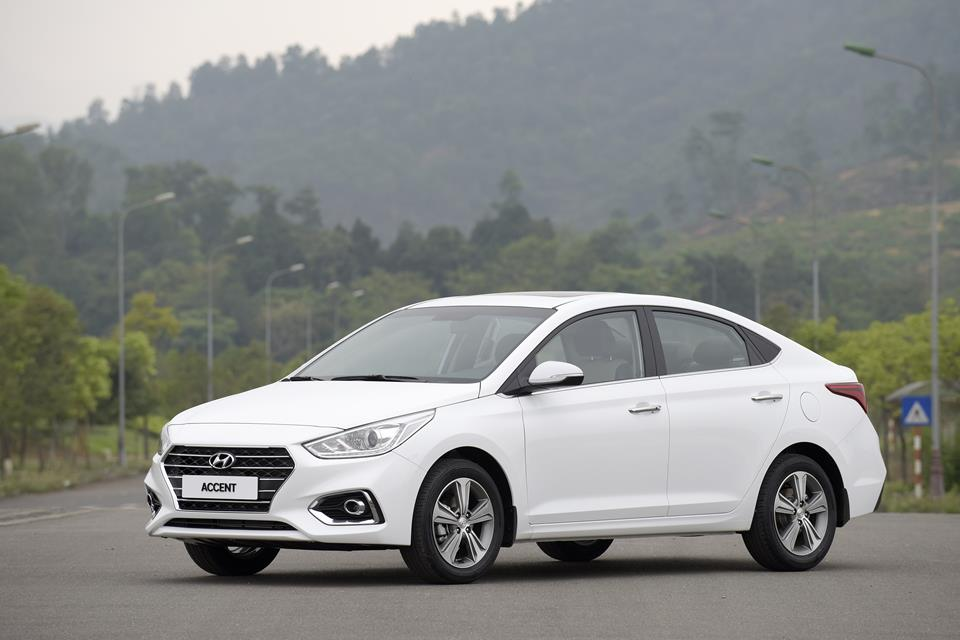accent: (129, 279, 901, 597)
